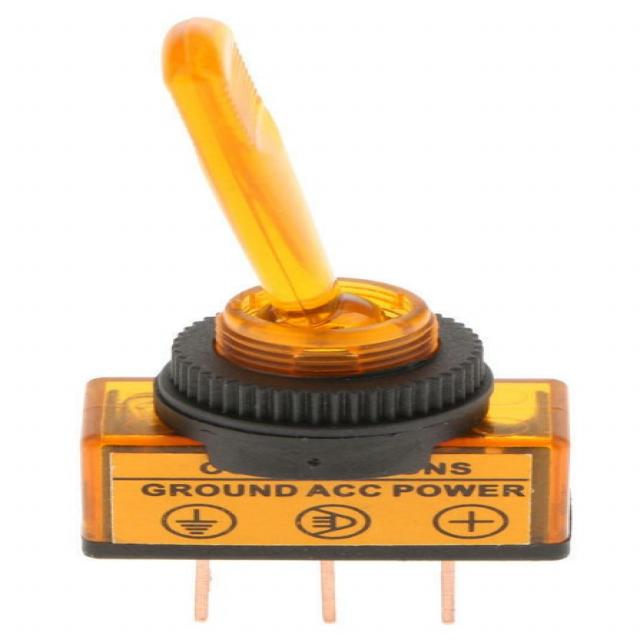toggle switch: (150, 16, 501, 483)
